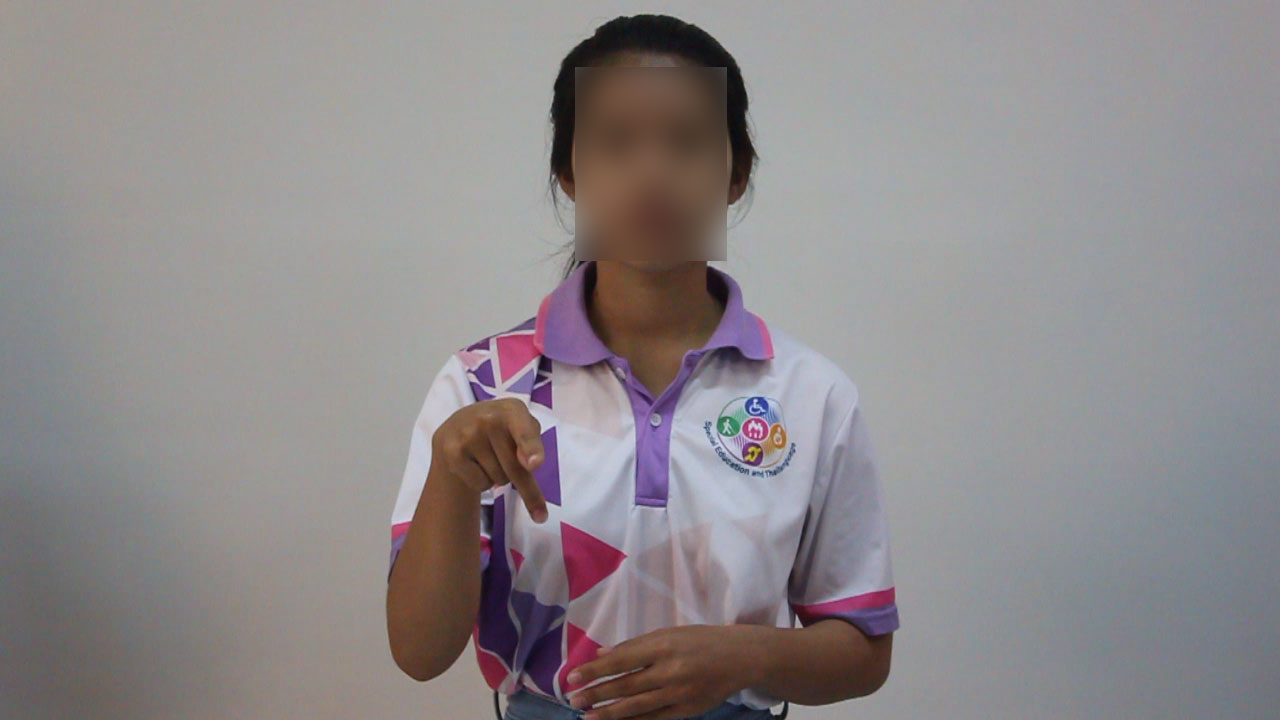por: (427, 387, 566, 532)
